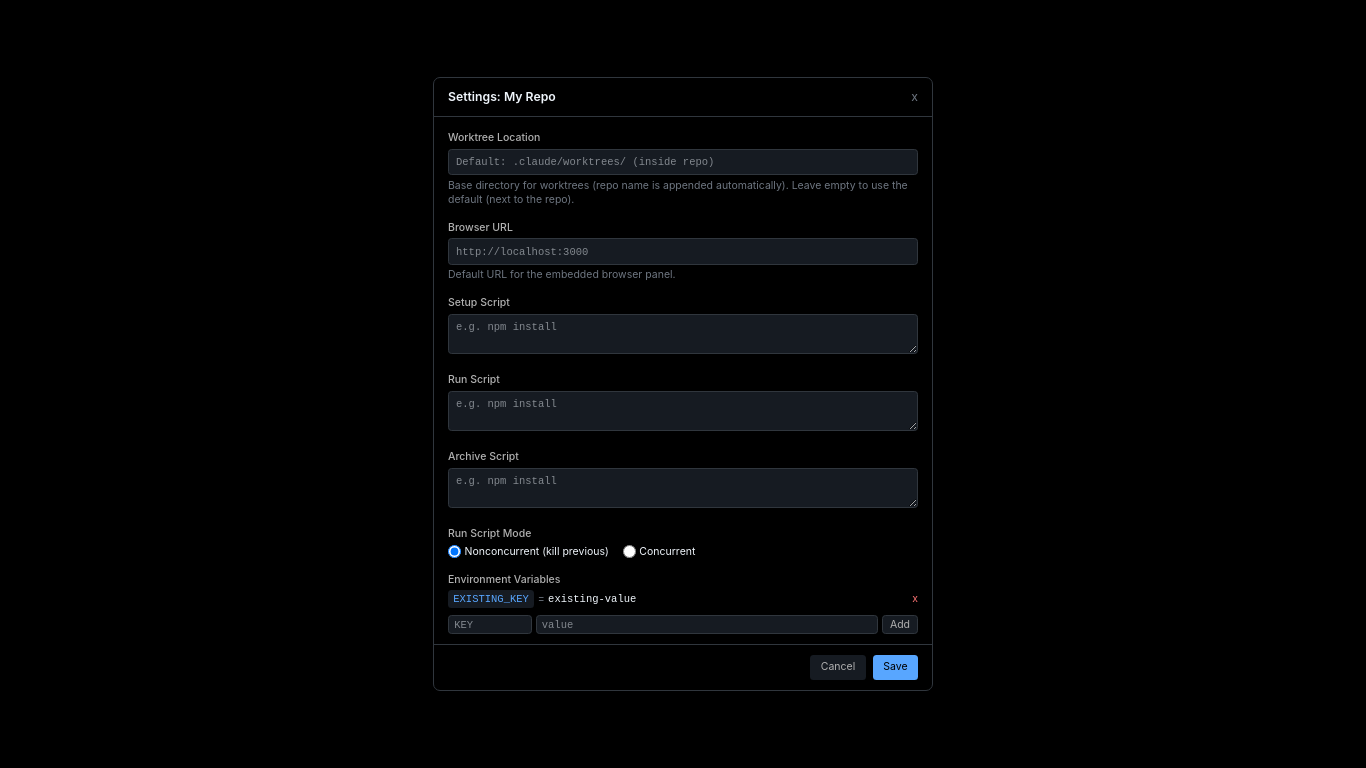
RepoSettingsPanel › removes an environment variable
expect the text "EXISTING_KEY" is shown: met, box [448,590,534,608]
Click the button "x" in the row of "existing-value". click: (915, 599)
box: [912,592,918,606]
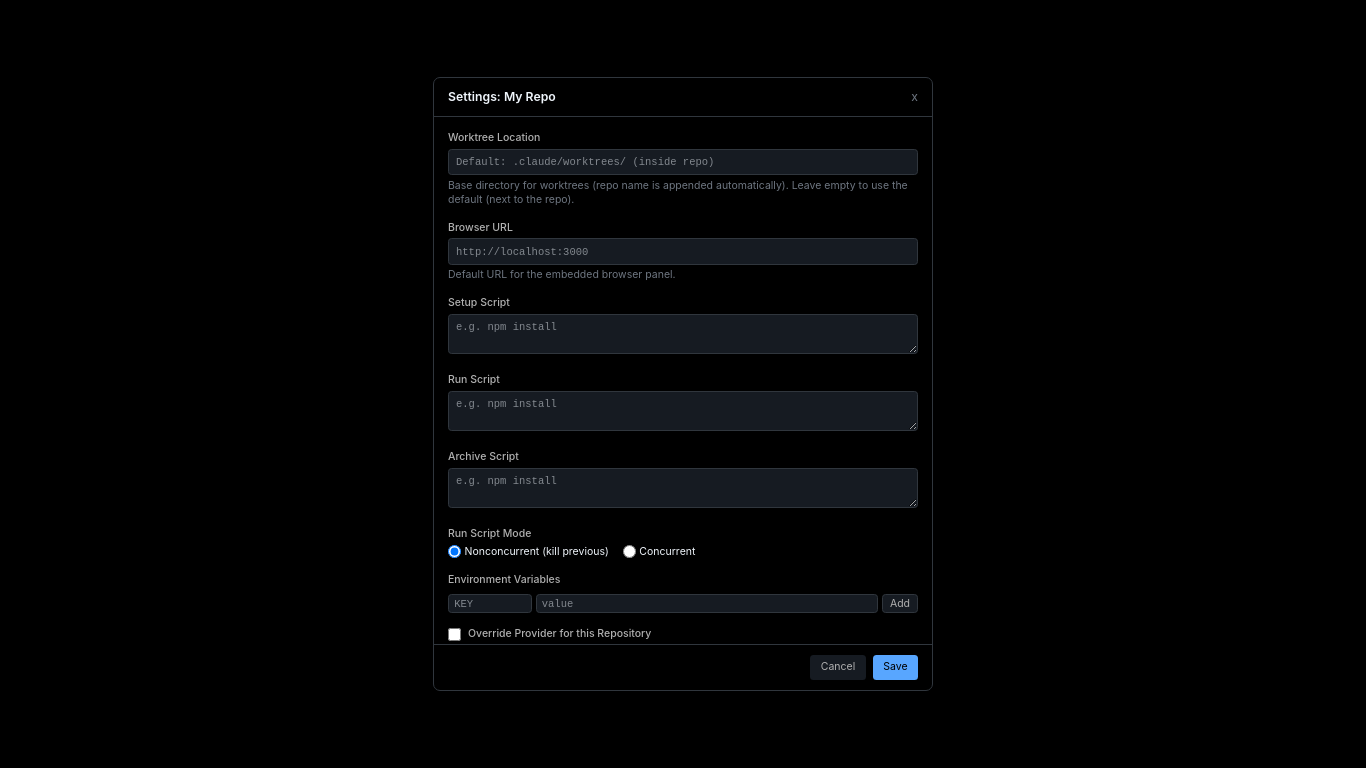
expect the text "EXISTING_KEY" is gone: met
